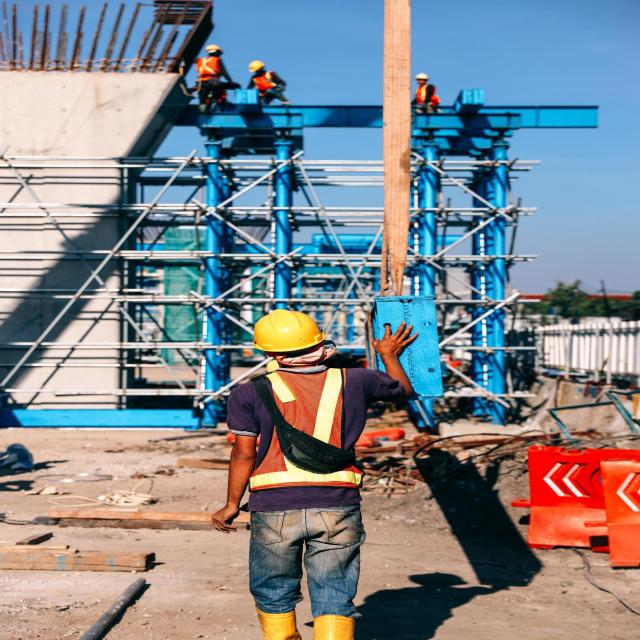helmet: (247, 306, 326, 354), (245, 60, 265, 74), (204, 44, 222, 54), (416, 71, 430, 80)
vest: (247, 370, 367, 490), (198, 55, 225, 81), (413, 85, 446, 105), (253, 71, 277, 92)
